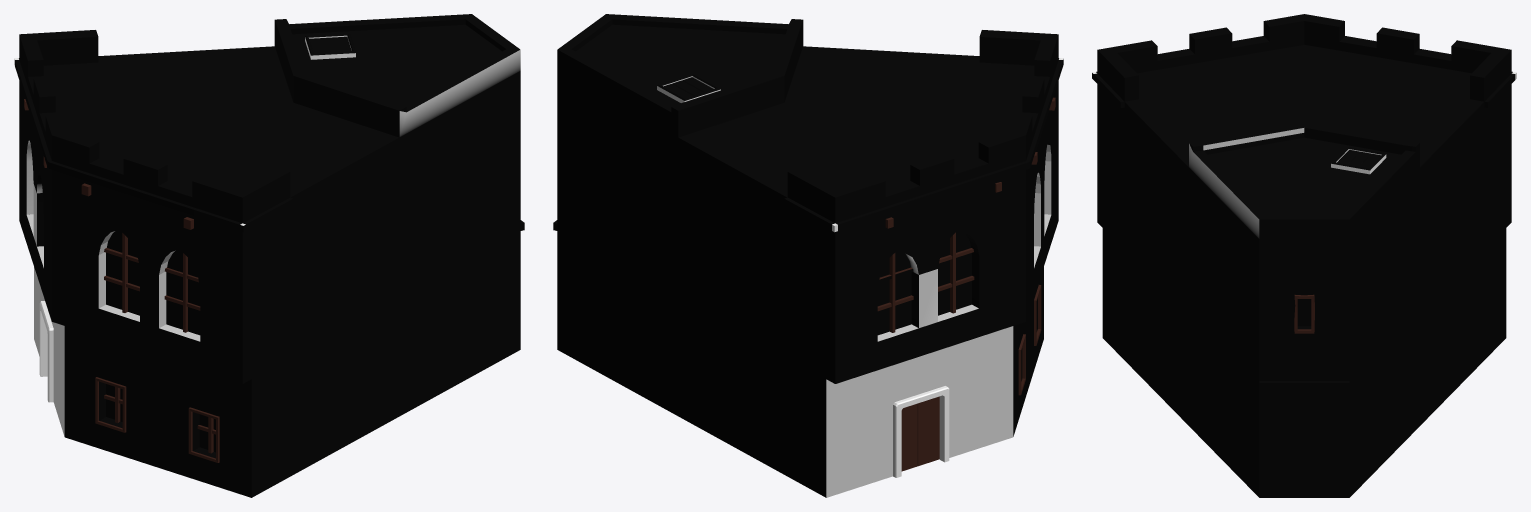
File: civilian_house_05.FBX
3 renders of one model, left to right at view 1: azimuth 30°, elevation 25°; view 2: azimuth 150°, elevation 25°; view 3: azimuth 270°, elevation 25°, orthographic. The views are drawn at different scales.
Parts seen in each view (by area): view 1: civilian_house_05; view 2: civilian_house_05; view 3: civilian_house_05.
Part boxes in pixels (left/top/right/bottom): civilian_house_05: left=14, top=14, right=524, bottom=497; civilian_house_05: left=553, top=14, right=1063, bottom=497; civilian_house_05: left=1092, top=14, right=1516, bottom=497.
Bounding box in the file's own units: 1772 × 1145 × 1556.
